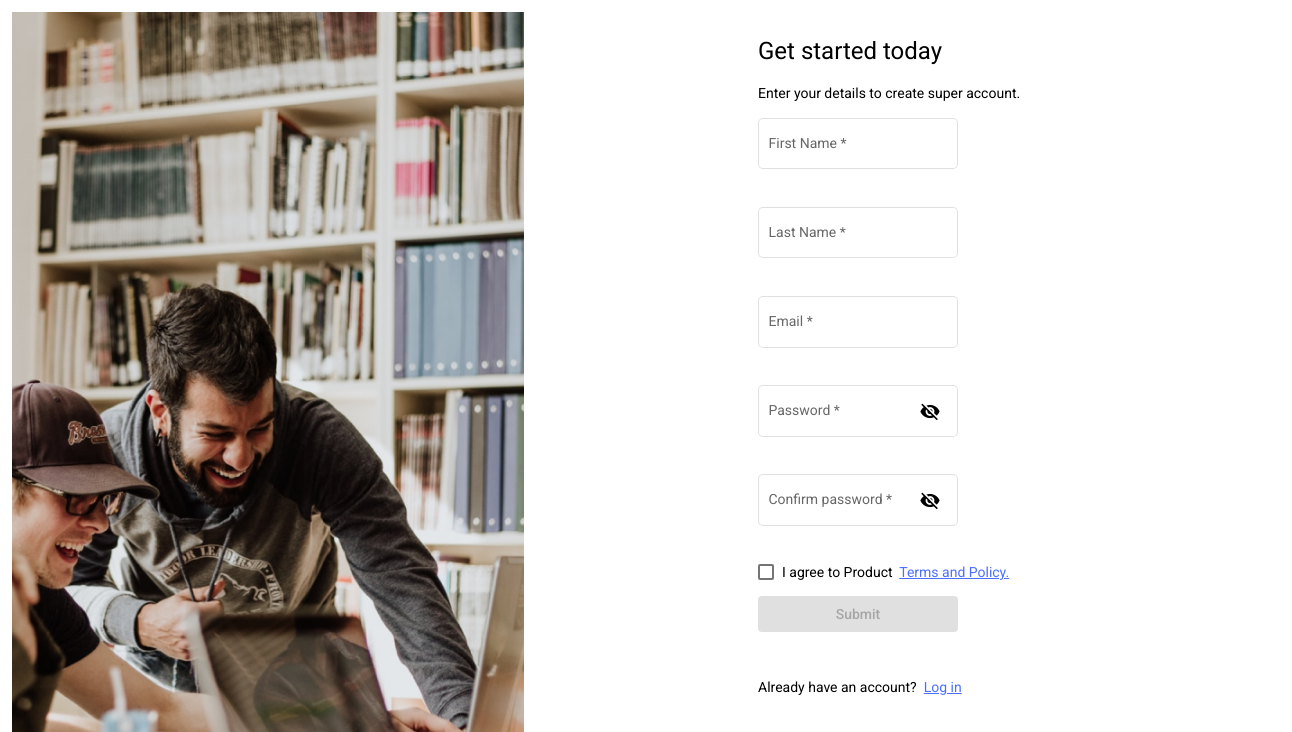
Test case: Registration › Password error should appear
In the element showing "Password *": (858, 414) [758, 406, 958, 422], type "sombra"
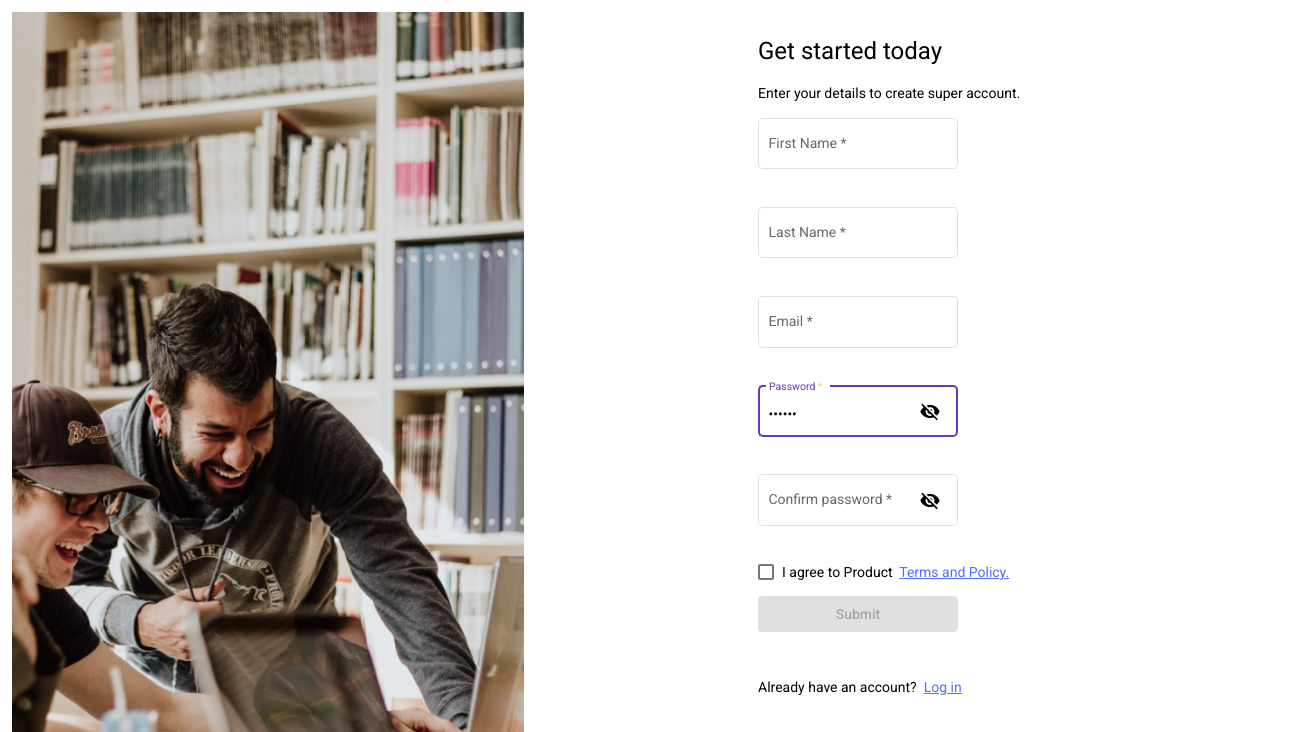
Leave the password field labelled "Password *", box [769, 407, 913, 423]
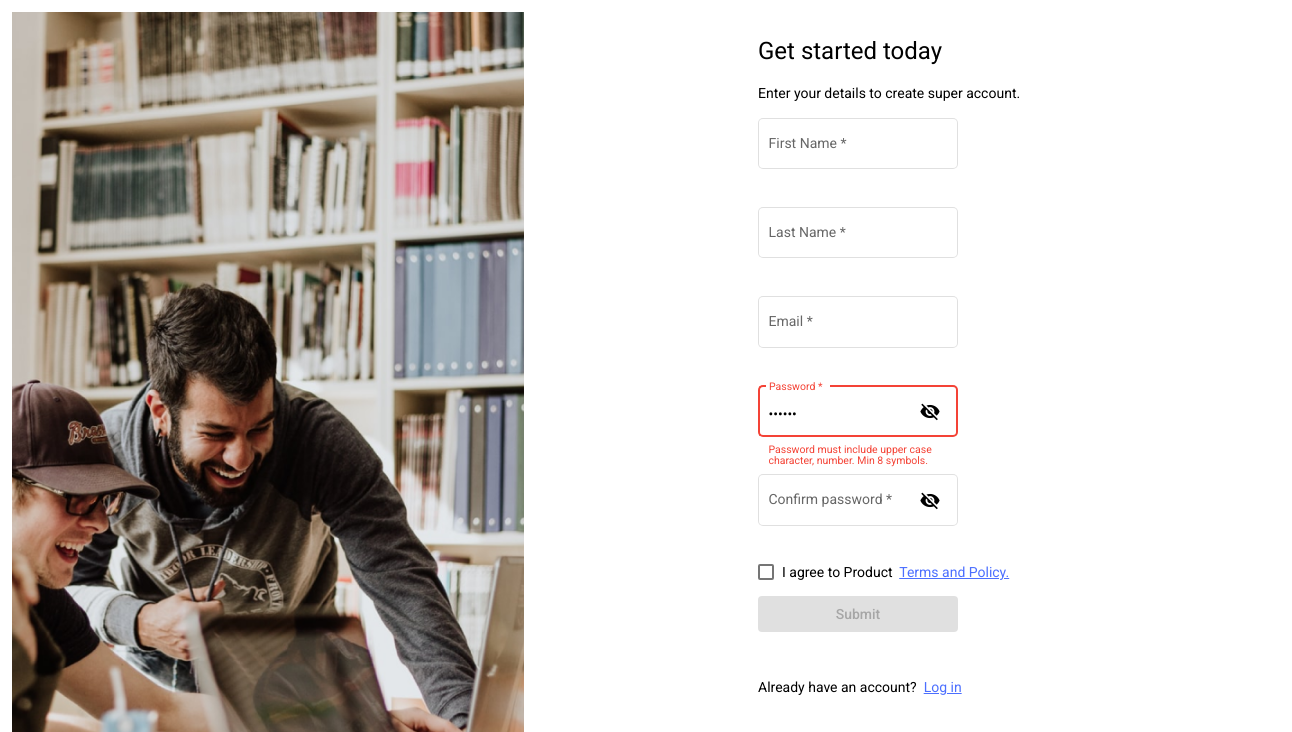
Check: the text "Password must include upper case character, number. Min 8 symbols." is shown, box [768, 444, 948, 467]
